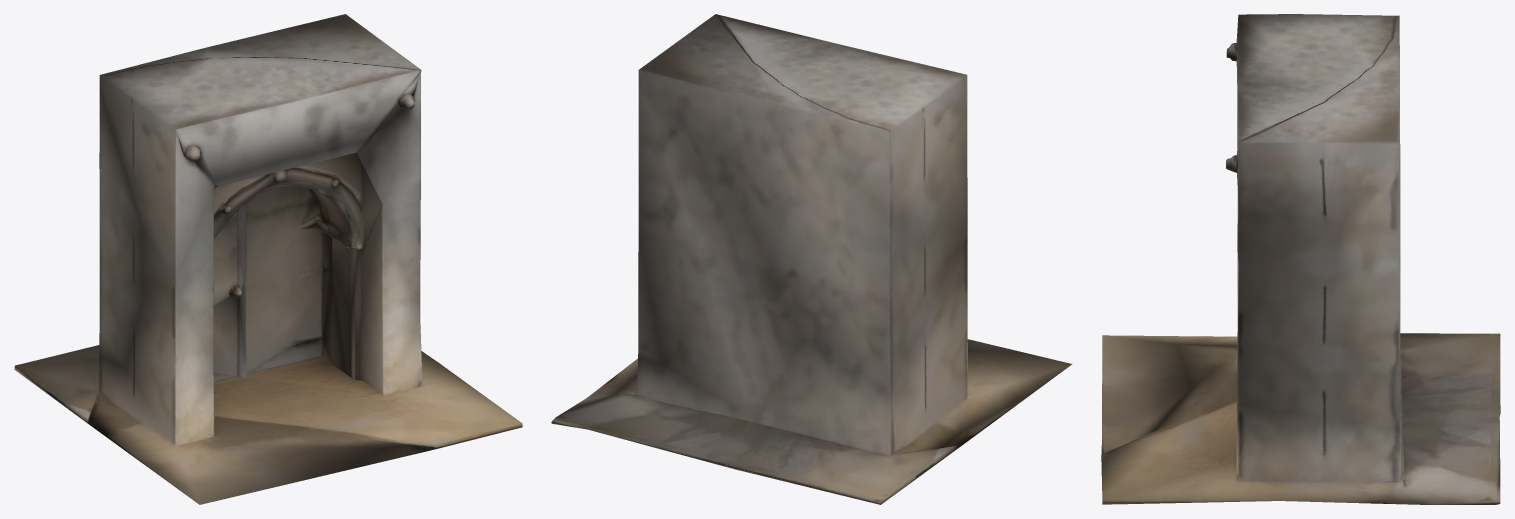
File: bunker-entrance-meshy-web-v1.glb
3 views of the same model, side by side, from view 1: azimuth 30°, elevation 25°; view 2: azimuth 150°, elevation 25°; view 3: azimuth 270°, elevation 25° (orthographic). The views are drawn at different scales.
Bounding box in the file's own units: 2 × 1.91 × 2.
Materials: 1 (1 with a texture image).
